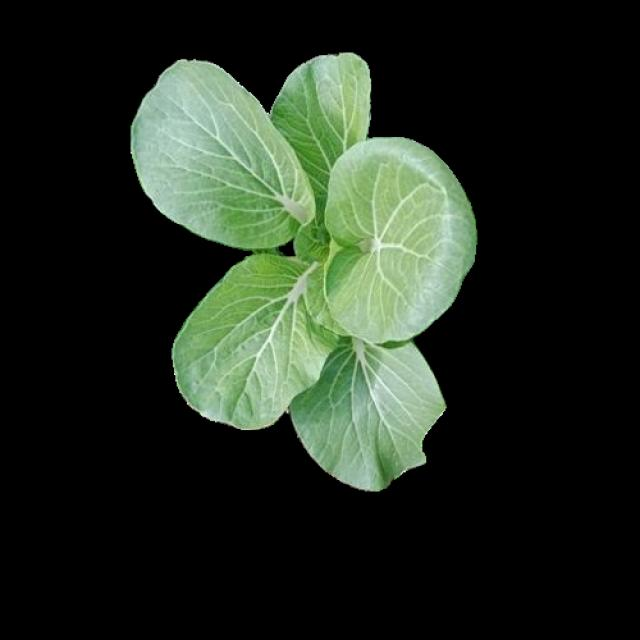healthy: (142, 73, 471, 486)
mature: (132, 55, 474, 489)
